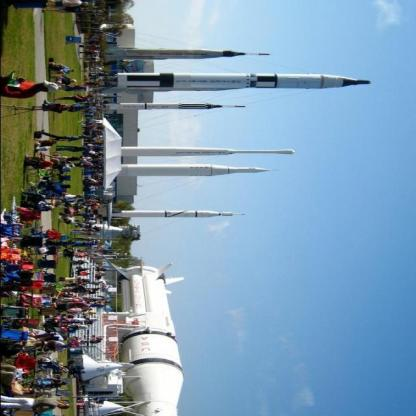MIL_TBM: (116, 262, 186, 416), (116, 73, 368, 95), (118, 142, 298, 158), (103, 47, 269, 60), (113, 163, 278, 175), (104, 103, 254, 113), (108, 210, 244, 218)
